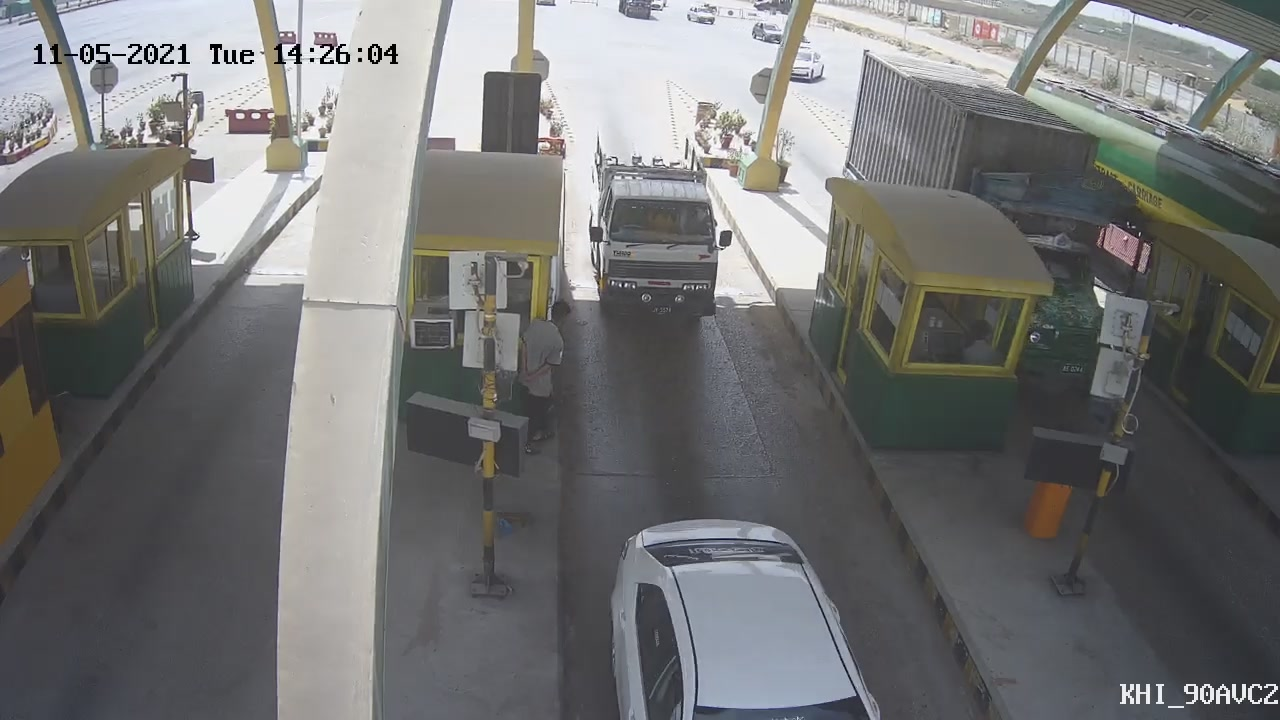F5: (587, 130, 736, 340)
